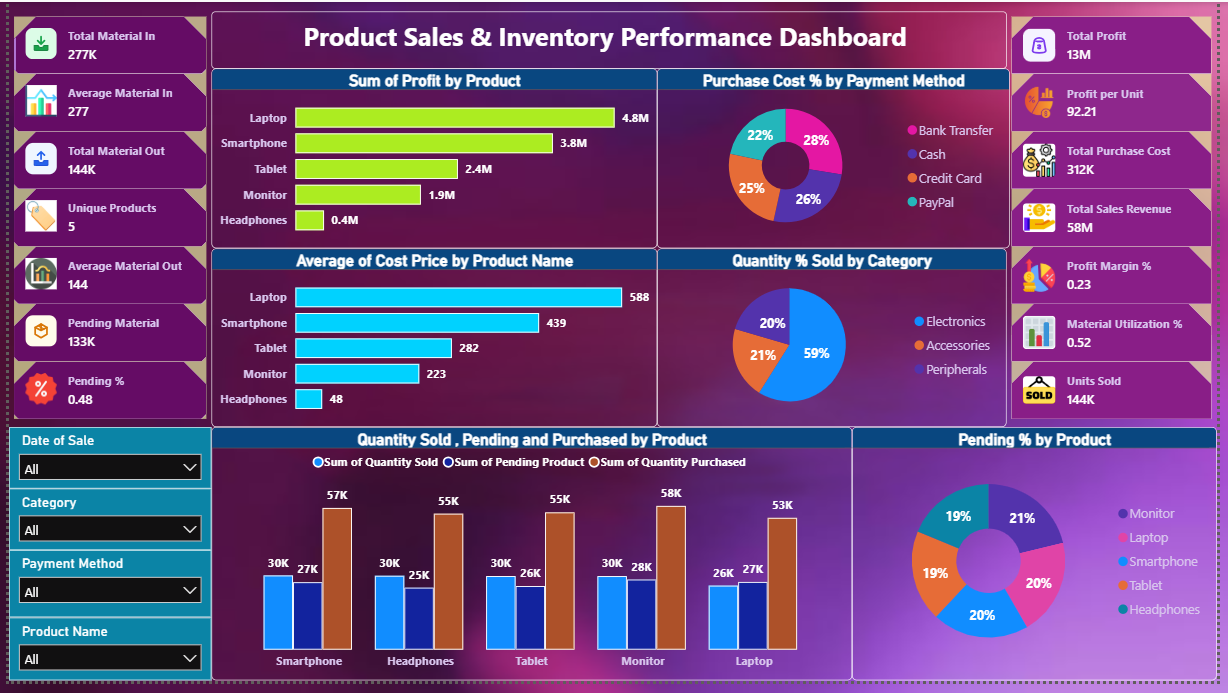

The dashboard page shown, as its layout file describes it:
{"tool":"powerbi","page":{"name":" Page 4","canvas":[1280,720],"ordinal":0},"visuals":[{"type":"cardVisual","fields":{"Data":["Product Data.Total Material In","Product Data.Average Material In","Product Data.Total Material Out","Product Data.Total Products","Product Data.Average Material Out","Product Data.Pending Material","Product Data.Pending %"]},"box":[0,11.1,214.7,440.6],"z":0},{"type":"textbox","box":[214.7,11.1,843,60.4],"z":1000},{"type":"cardVisual","fields":{"Data":["Product Data.Total Profit","Product Data.Profit per Unit","Product Data.Total Purchase Cost","Product Data.Total Sales Revenue","Product Data.Profit Margin %","Product Data.Material Utilization %","Product Data.Units Sold"]},"box":[1057.8,11.1,222.7,440.6],"z":2000},{"type":"clusteredColumnChart","title":"Quantity Sold ,  Pending and Purchased by Product","fields":{"Category":["Product Data.Product Name"],"Y":["Sum(Product Data.Quantity Sold)","Sum(Product Data.Pending Product)","Sum(Product Data.Quantity Purchased)"]},"box":[214.7,451.7,679.2,268.8],"z":3000},{"type":"barChart","fields":{"Category":["Product Data.Product Name"],"Y":["Avg(Product Data.Cost Price)"]},"box":[214.7,262.5,472.4,189.3],"z":4000},{"type":"donutChart","title":" Purchase Cost % by Payment Method","fields":{"Category":["Product Data.Payment Method"],"Y":["Sum(Product Data.Purchase Cost)"]},"box":[687.1,71.6,373.8,190.9],"z":5000},{"type":"slicer","fields":{"Values":["Product Data.Product Name"]},"box":[0,653.7,214.7,66.8],"z":5000,"group":"g1"},{"type":"barChart","title":"Sum of Profit by Product ","fields":{"Category":["Product Data.Product Name"],"Y":["Sum(Product Data.Profit)"]},"box":[214.7,71.6,472.4,190.9],"z":6000},{"type":"donutChart","title":" Quantity % Sold by Category","fields":{"Category":["Product Data.Category"],"Y":["Sum(Product Data.Quantity Sold)"]},"box":[687.1,262.5,370.6,189.3],"z":7000},{"type":"slicer","fields":{"Values":["Product Data.Payment Method"]},"box":[0,582.1,214.7,71.6],"z":7000,"group":"g1"},{"type":"group","id":"g1","title":"Group 1","box":[0,451.7,214.7,268.8],"z":8000},{"type":"donutChart","title":" Pending % by Product ","fields":{"Category":["Product Data.Product Name"],"Y":["Sum(Product Data.Pending Product)"]},"box":[893.9,451.7,386.5,268.8],"z":9000},{"type":"slicer","fields":{"Values":["Product Data.Category"]},"box":[0,516.9,214.7,65.2],"z":9000,"group":"g1"},{"type":"slicer","fields":{"Values":["Product Data.Date of Sale"]},"box":[0,451.7,214.7,65.2],"z":10000,"group":"g1"}]}

Visuals, with their boxes in screenshot pixels (x1, y1, x2, y2), scaled from the page's 1280x720 canvas onto the 1228x693 screenshot:
cardVisual - Product Data.Total Material In x Product Data.Average Material In: bbox=[0, 11, 206, 435]
textbox: bbox=[206, 11, 1015, 69]
cardVisual - Product Data.Total Profit x Product Data.Profit per Unit: bbox=[1015, 11, 1227, 435]
"Quantity Sold ,  Pending and Purchased by Product" clusteredColumnChart: bbox=[206, 435, 858, 692]
barChart - Product Data.Product Name x Avg(Product Data.Cost Price): bbox=[206, 253, 659, 435]
" Purchase Cost % by Payment Method" donutChart: bbox=[659, 69, 1018, 253]
slicer - Product Data.Product Name: bbox=[0, 629, 206, 692]
"Sum of Profit by Product " barChart: bbox=[206, 69, 659, 253]
" Quantity % Sold by Category" donutChart: bbox=[659, 253, 1015, 435]
slicer - Product Data.Payment Method: bbox=[0, 560, 206, 629]
"Group 1" group: bbox=[0, 435, 206, 692]
" Pending % by Product " donutChart: bbox=[858, 435, 1227, 692]
slicer - Product Data.Category: bbox=[0, 498, 206, 560]
slicer - Product Data.Date of Sale: bbox=[0, 435, 206, 498]
